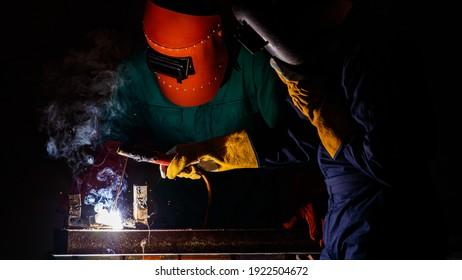gloves: (273, 65, 356, 159), (159, 129, 261, 179)
